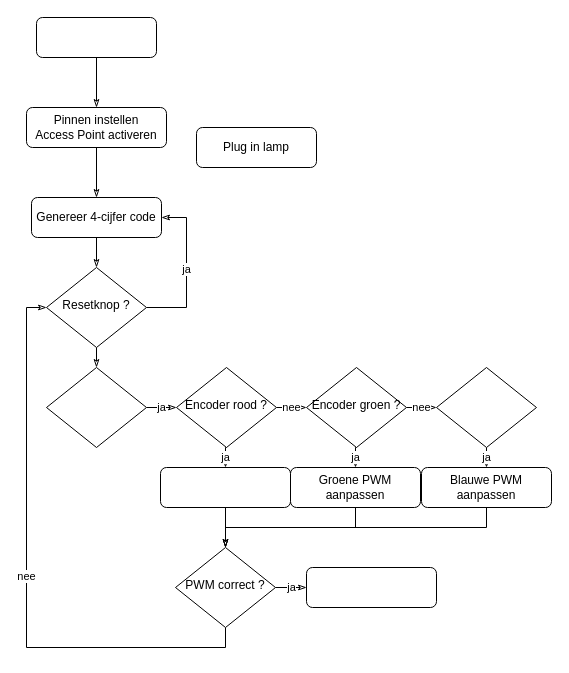
This 569x673 diagram has some shape labels left out. The centre of each missing label's shape, as x and y in pixels:
"Encoder blauw ?" goes at (x=486, y=407).
"Encoder gedraaid ?" goes at (x=96, y=407).
"Rode PWM aanpassen" goes at (x=225, y=487).
"Start" goes at (x=96, y=37).
"zend morse" goes at (x=371, y=587).
